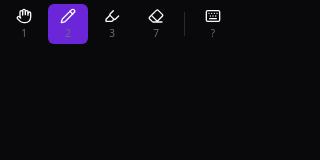
AnnotationToolbar › tooltips (AC-4.6.5) › shows tooltip on hover for highlighter tool
Hover over the button with test id "tool-button-highlighter" at x=112, y=24, box [92,4,132,44]
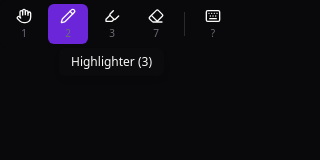
Result: the tooltip reads "Highlighter (3)" at [71,53,152,70]
